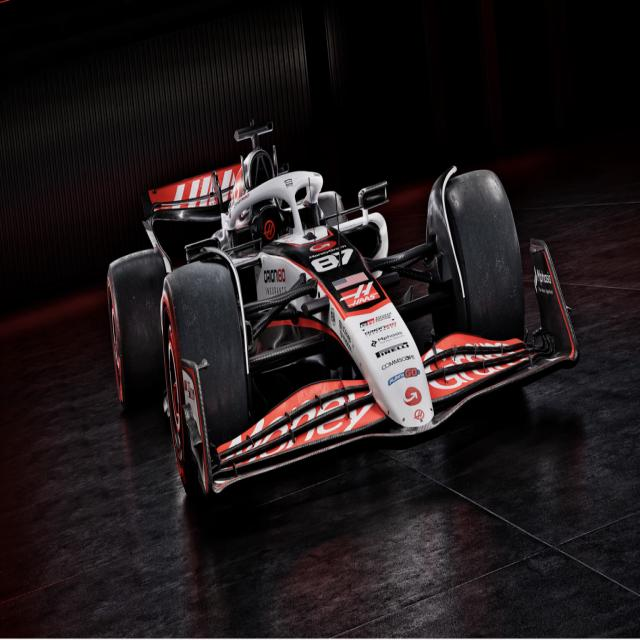Haas: (106, 117, 580, 502)
